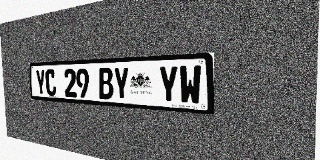2: (64, 69, 77, 97)
9: (76, 68, 90, 98)
B: (98, 67, 114, 100)
C: (45, 69, 57, 96)
W: (179, 65, 202, 105)
Y: (158, 66, 179, 104), (113, 67, 130, 101), (35, 69, 46, 95)
